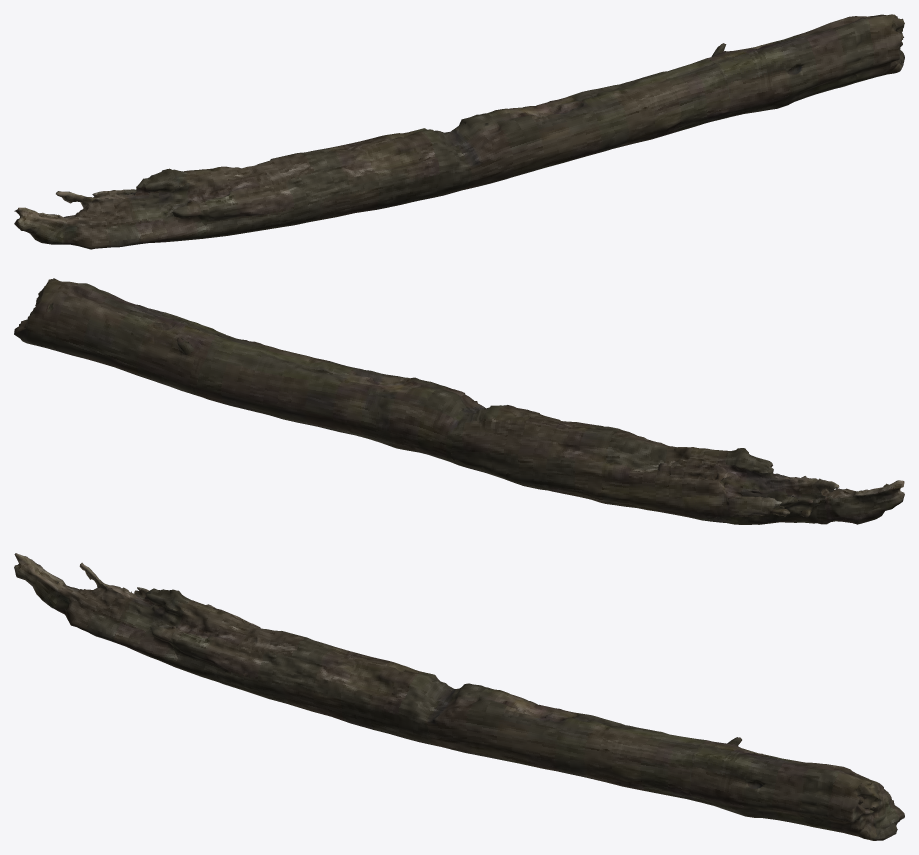
The model's file is grounded-deadwood-weathered.glb.
3 renders of one model, top to bottom at view 1: azimuth 30°, elevation 25°; view 2: azimuth 150°, elevation 25°; view 3: azimuth 330°, elevation 25°, orthographic.
Parts seen in each view (by area): view 1: grounded-deadwood-weathered runtime mesh; view 2: grounded-deadwood-weathered runtime mesh; view 3: grounded-deadwood-weathered runtime mesh.
Boxes of the visible parts, x1,y1,x2,y2 form: grounded-deadwood-weathered runtime mesh: (14, 14, 904, 249); grounded-deadwood-weathered runtime mesh: (14, 278, 904, 524); grounded-deadwood-weathered runtime mesh: (14, 553, 904, 840).
Size of the model in its own units: 2.1 by 0.1992 by 0.1905.
1 material, 1 textured.
